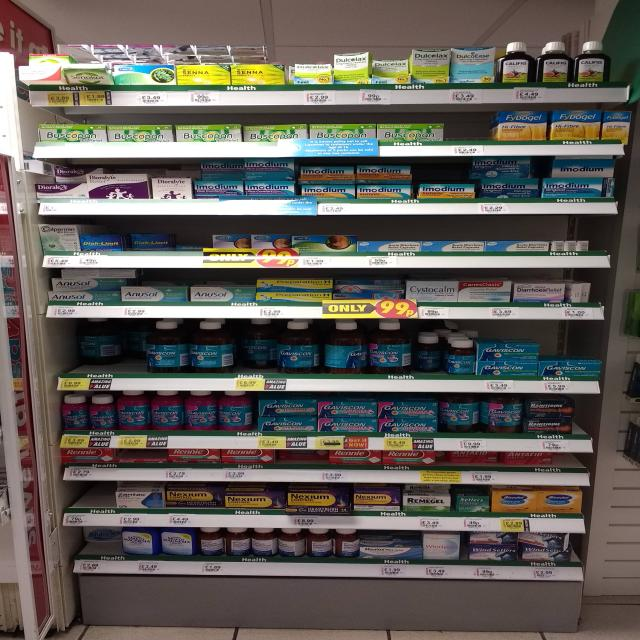empty: (446, 108, 499, 149), (68, 479, 114, 514)
